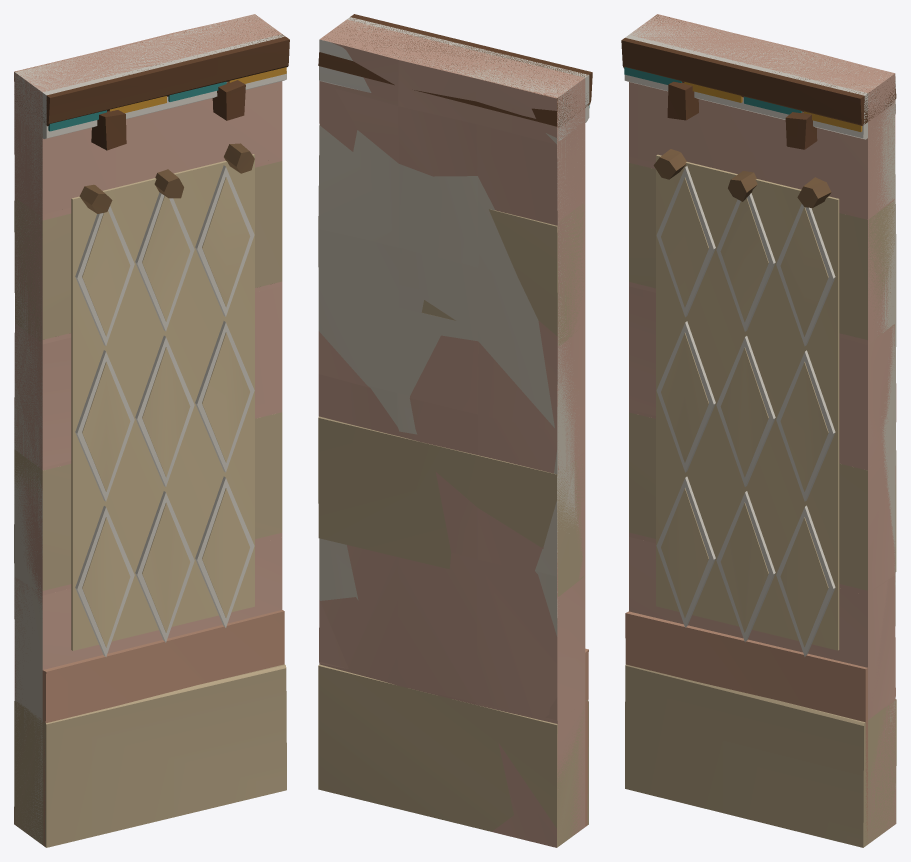
File: wall.timber.glb
3 views of the same model, side by side, from view 1: azimuth 30°, elevation 25°; view 2: azimuth 150°, elevation 25°; view 3: azimuth 330°, elevation 25° (orthographic).
Visible parts, largest first — view 1: wall.timber.v2.mesh, wall.timber.v0.mesh, wall.timber.v1.mesh; view 2: wall.timber.v1.mesh, wall.timber.v0.mesh, wall.timber.v2.mesh; view 3: wall.timber.v2.mesh, wall.timber.v0.mesh, wall.timber.v1.mesh.
Part boxes in pixels (x1=…): wall.timber.v2.mesh: x1=14, y1=15, x2=289, y2=847; wall.timber.v0.mesh: x1=14, y1=14, x2=282, y2=841; wall.timber.v1.mesh: x1=14, y1=15, x2=286, y2=846; wall.timber.v1.mesh: x1=318, y1=17, x2=589, y2=847; wall.timber.v0.mesh: x1=318, y1=20, x2=585, y2=847; wall.timber.v2.mesh: x1=318, y1=14, x2=592, y2=844; wall.timber.v2.mesh: x1=621, y1=15, x2=896, y2=847; wall.timber.v0.mesh: x1=629, y1=14, x2=896, y2=823; wall.timber.v1.mesh: x1=624, y1=14, x2=896, y2=843.
Bounding box in the file's own units: 0.9999 × 3 × 0.3036.
